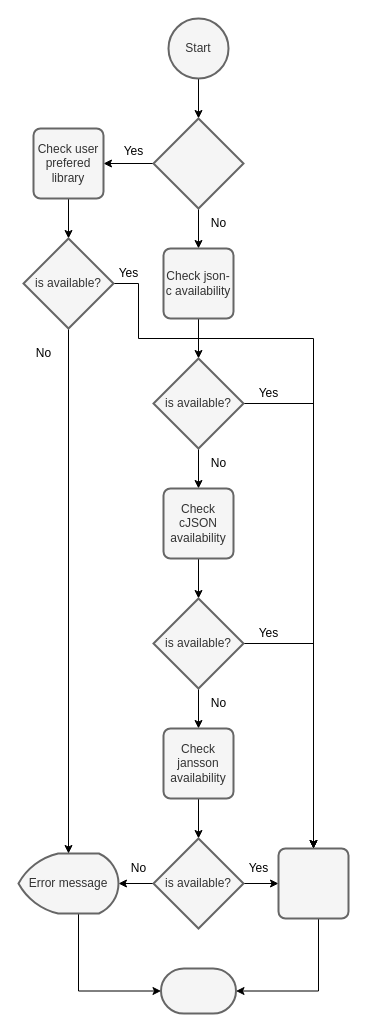
This 366x1031 diagram has some shape labels left out. The box of each missing label's shape, as (x1, y1, x2, y2) in pixels:
End: (160, 967, 236, 1014)
Link the library: (277, 847, 349, 919)
user has preferences?: (152, 117, 244, 209)
